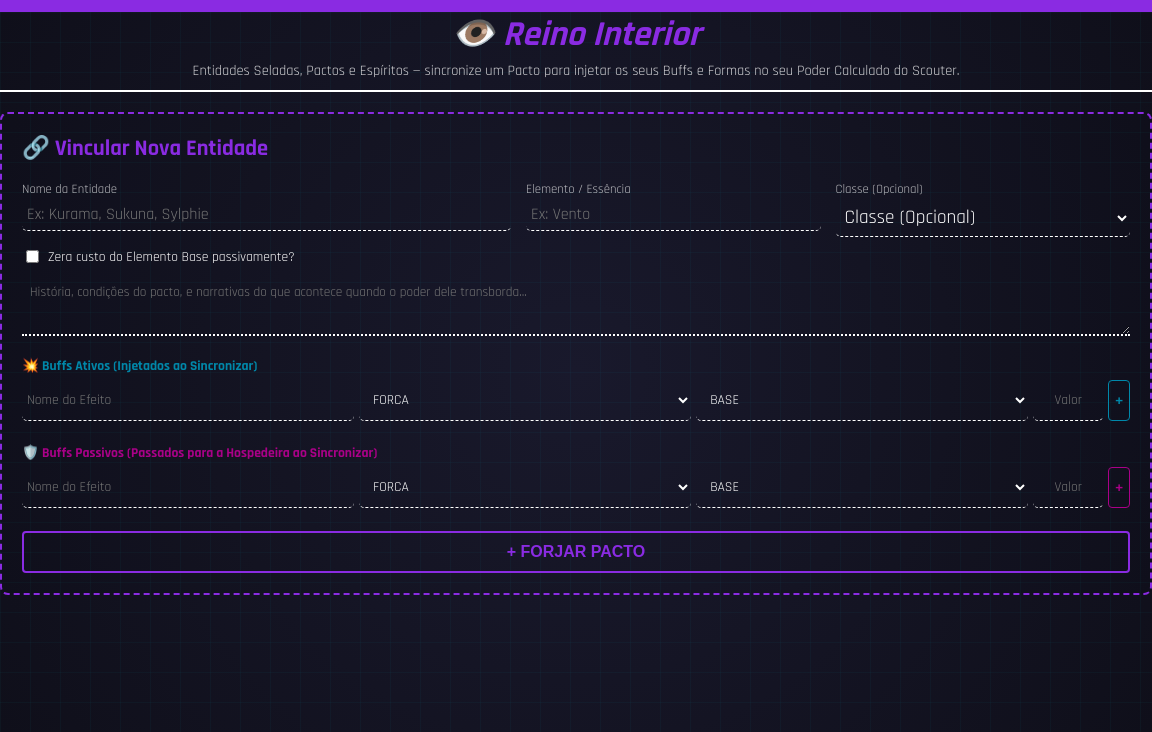
PactosPanel — criar um novo Pacto ("+ FORJAR PACTO") › preenche nome (obrigatório) + elemento/classe/descricao (opcionais) e cria uma entrada com o shape correto em ficha.seresSelados
The width and height of the screenshot is (1152, 732).
Type "Kurama" into the field with placeholder "Ex: Kurama, Sukuna, Sylphie" at (266, 215), box x1=22 y1=199 x2=511 y2=231
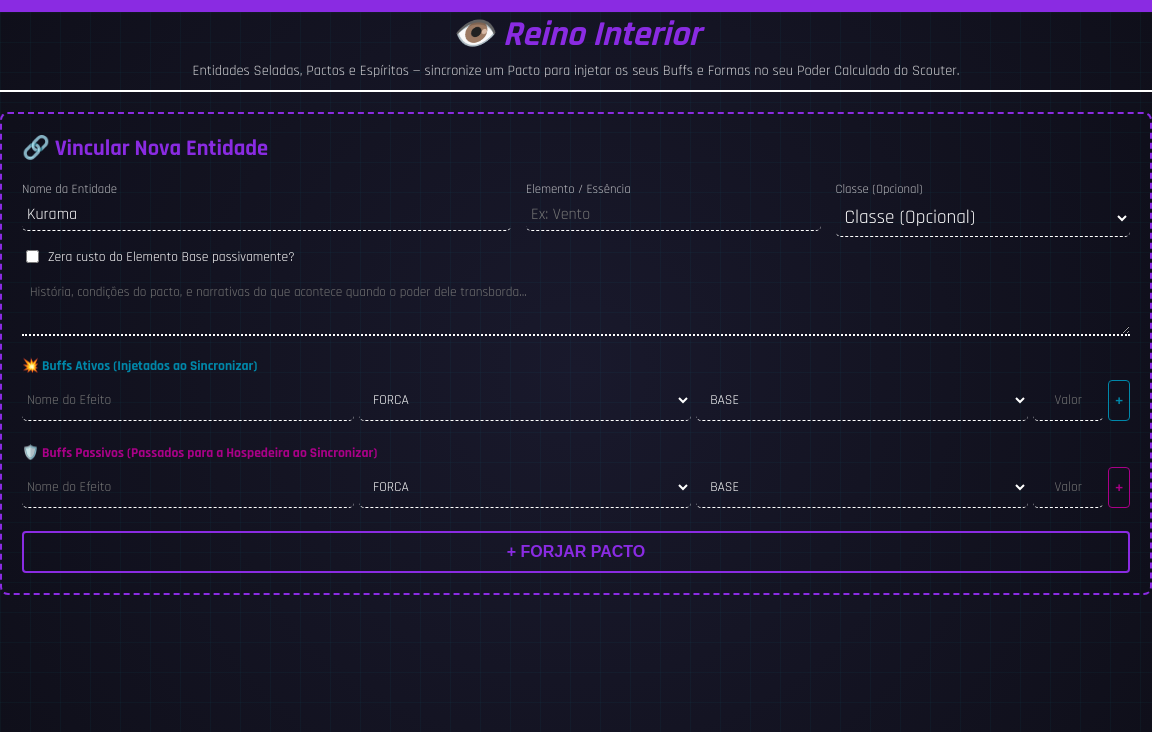
Type "Fogo" into the field with placeholder "Ex: Vento" at (673, 215), box x1=526 y1=199 x2=820 y2=231
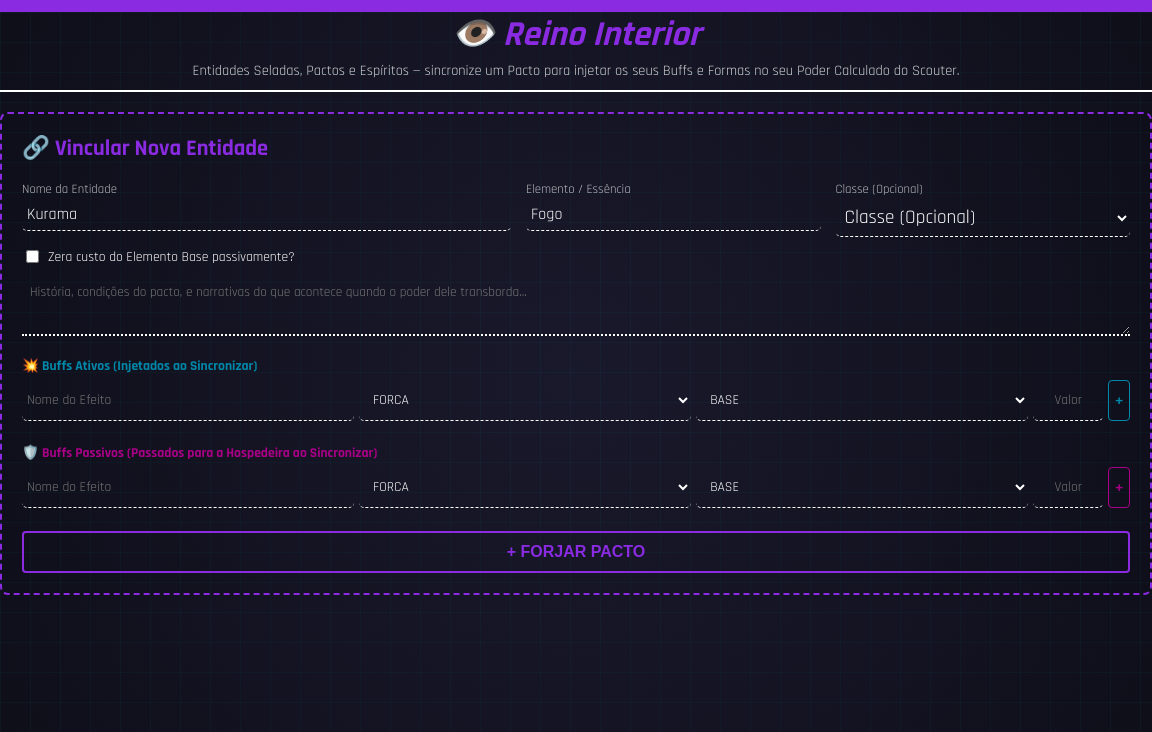
Replace the text in the text box with placeholder "História, condições do pacto" with "Selado há 1000 anos." at (576, 306), box x1=22 y1=276 x2=1130 y2=336
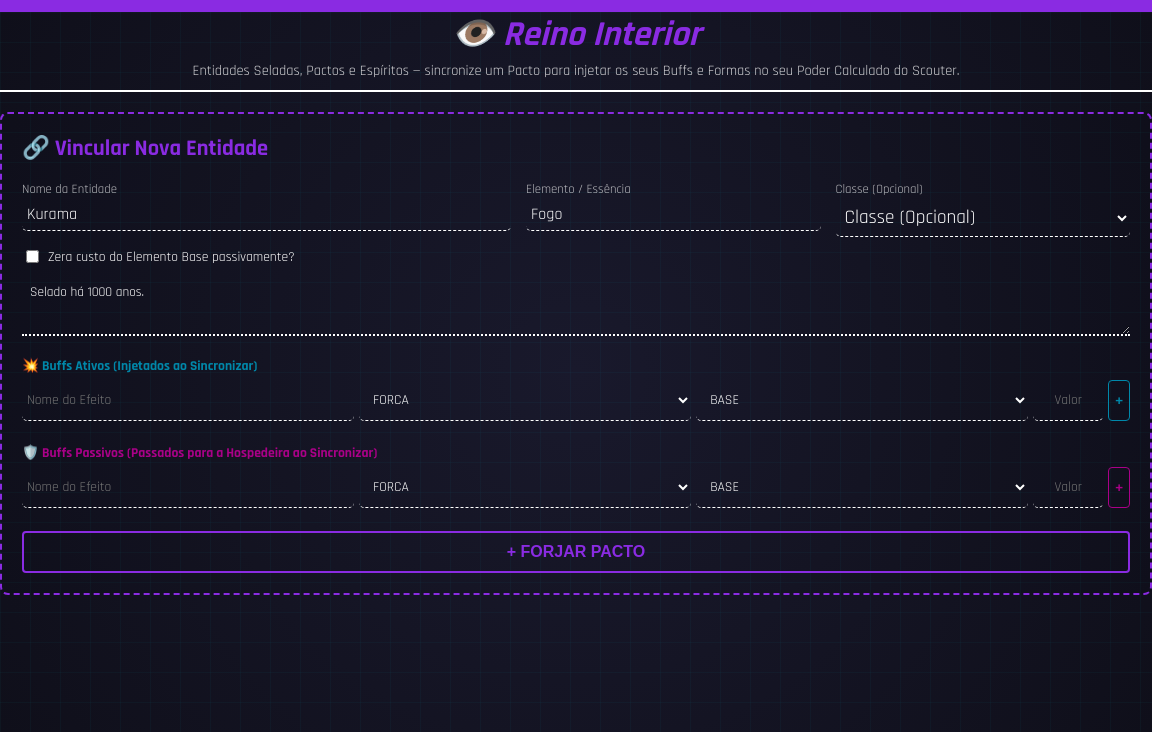
Click the button "+ FORJAR PACTO" at (576, 552), box x1=22 y1=531 x2=1130 y2=573
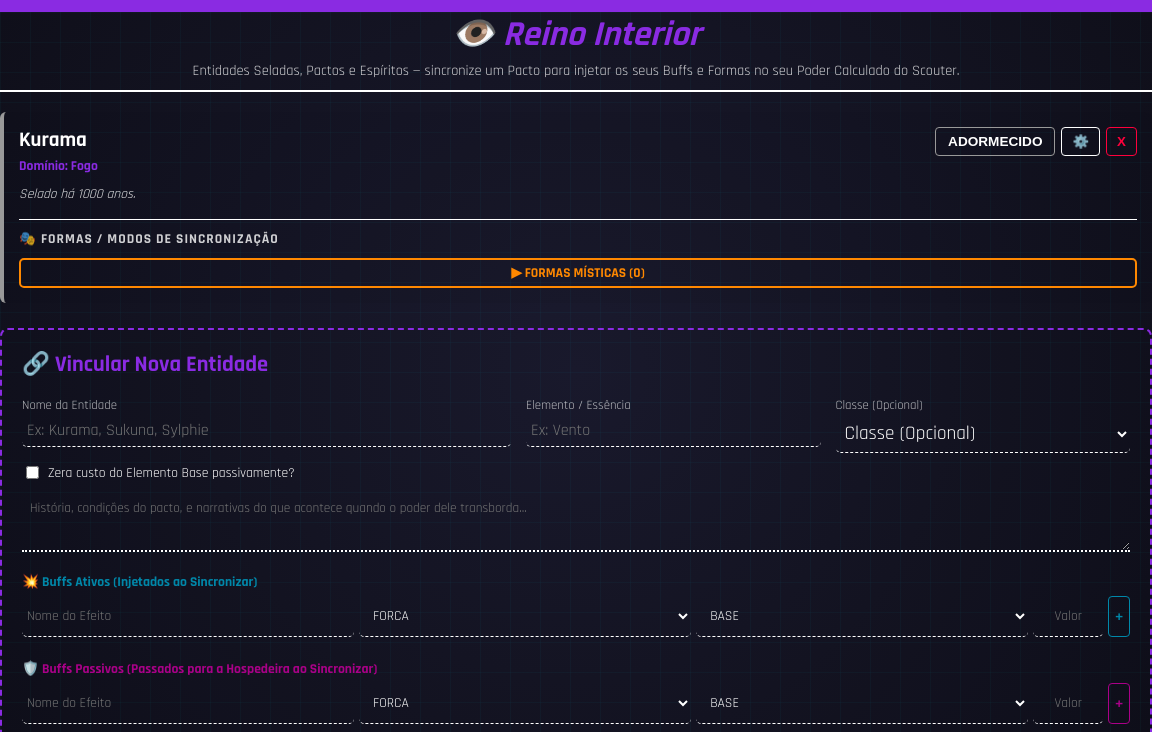
expect the heading "Kurama" is shown: met, box x1=19 y1=127 x2=87 y2=153
expect the text "Selado há 1000 anos." is shown: met, box x1=19 y1=185 x2=135 y2=203
